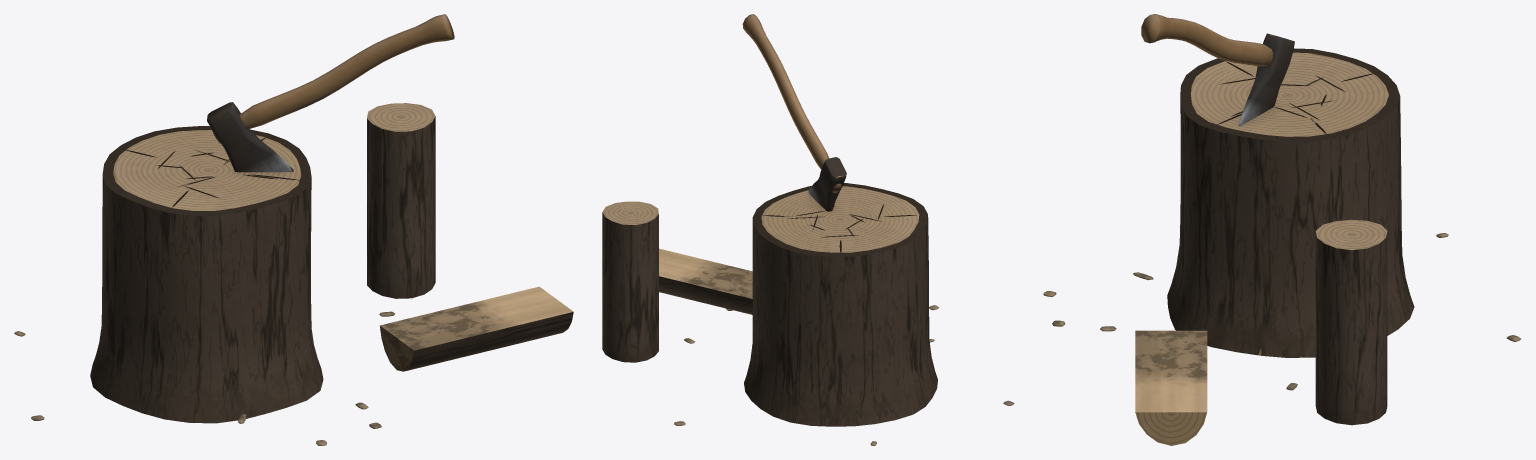
The model's file is chopping.glb.
3 views of the same model, side by side, from view 1: azimuth 30°, elevation 25°; view 2: azimuth 150°, elevation 25°; view 3: azimuth 270°, elevation 25° (orthographic). The views are drawn at different scales.
Visible parts, largest first — view 1: Stump, ChopLog, ChopHalf, Axe; view 2: Stump, ChopLog, ChopHalf, Axe; view 3: Stump, ChopLog, ChopHalf, Axe.
Boxes of the visible parts, box(x1,y1,x2,y2) form: Stump: box(14, 126, 394, 445); ChopLog: box(367, 103, 435, 298); ChopHalf: box(379, 286, 573, 371); Axe: box(207, 14, 454, 172); Stump: box(674, 183, 1014, 445); ChopLog: box(602, 201, 658, 362); ChopHalf: box(659, 248, 752, 314); Axe: box(742, 14, 846, 211); Stump: box(1043, 48, 1520, 390); ChopLog: box(1315, 219, 1387, 425); ChopHalf: box(1135, 330, 1207, 445); Axe: box(1141, 14, 1294, 126).
Size of the model in its own units: 0.9135 by 0.6503 by 0.7428.
Materials: 2 (2 with a texture image).
